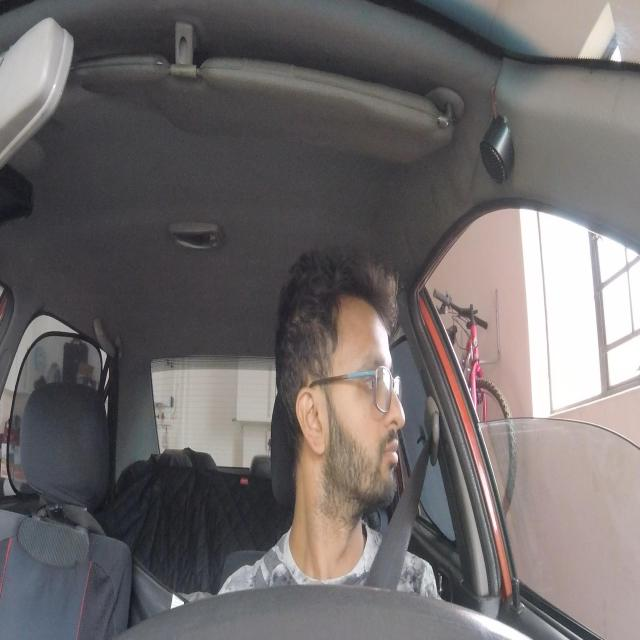open: (355, 352, 390, 413)
